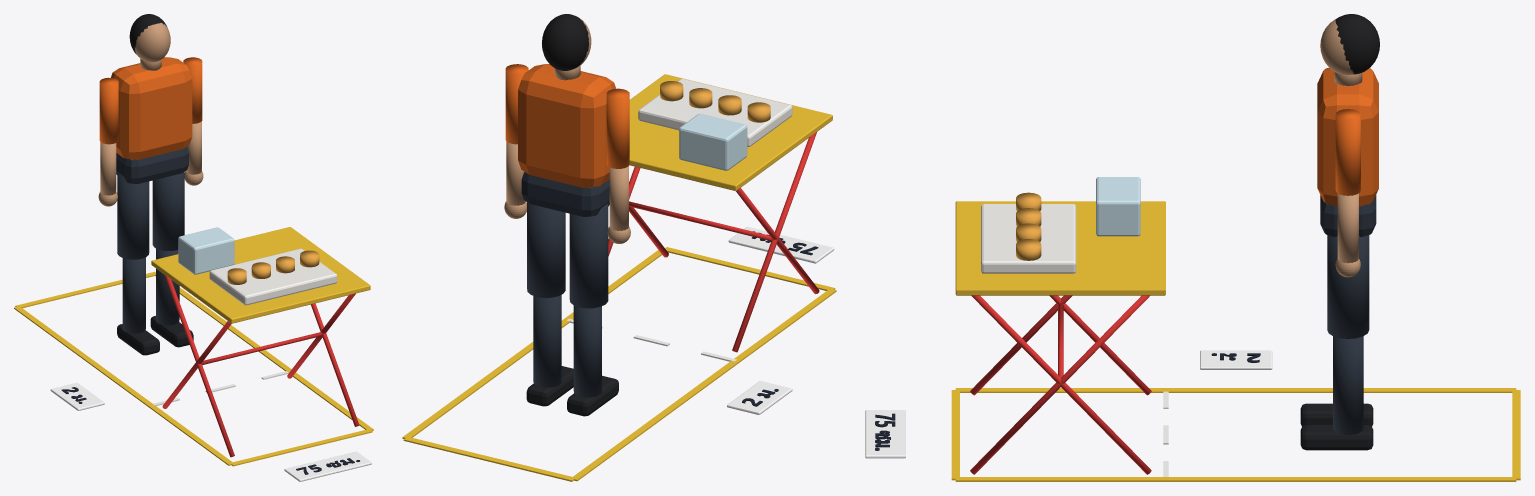
File: lot-food-1.glb
The picture shows the model from 3 angles, left to right: view 1: azimuth 30°, elevation 25°; view 2: azimuth 150°, elevation 25°; view 3: azimuth 270°, elevation 25°; orthographic projection. The views are drawn at different scales.
Parts seen in each view (by area): view 1: Cube.013, Cube, Cube.001, Cylinder.010, Cylinder.014, Cube.002, Cylinder.009, Cube.012, Cube.004, Cylinder.011, Cube.005, Cylinder.013 (+16 smaller); view 2: Cube.013, Cube, Cylinder.010, Cube.001, Cylinder.014, Cube.002, Cylinder.013, Cylinder.009, Cube.012, Cube.004, Sphere.003, Cylinder.011 (+13 smaller); view 3: Cube, Cube.013, Cube.001, Cylinder.014, Cylinder.013, Cube.005, Cube.002, Cube.004, Cylinder.015, Sphere.003, Cube.014, Cylinder.003 (+11 smaller).
Part boxes in pixels (x1,y1,x2,y2): Cube.013: (111,57,192,159); Cube: (151,227,370,323); Cube.001: (209,248,337,305); Cylinder.010: (117,173,149,259); Cylinder.014: (152,172,184,251); Cube.002: (178,227,234,274); Cylinder.009: (122,257,145,333); Cube.012: (116,146,188,183); Cube.004: (14,306,232,465); Cylinder.011: (99,77,118,144); Cube.005: (154,273,373,430); Cylinder.013: (156,248,179,325); Cube.013: (518,64,616,187); Cube: (629,74,832,190); Cylinder.010: (569,203,608,308); Cube.001: (638,78,792,146); Cylinder.014: (527,202,565,297); Cube.002: (679,113,747,170); Cylinder.013: (533,295,561,387); Cylinder.009: (573,305,601,397); Cube.012: (521,172,609,216); Cube.004: (573,288,836,481); Sphere.003: (542,14,588,70); Cylinder.011: (606,88,629,168); Cube: (955,201,1165,295); Cube.013: (1317,67,1378,206); Cube.001: (981,204,1076,273); Cylinder.014: (1327,235,1369,338); Cylinder.013: (1333,336,1363,434); Cube.005: (955,477,1516,481); Cube.002: (1096,177,1140,236); Cube.004: (955,388,1516,392); Cylinder.015: (1335,109,1360,195); Sphere.003: (1335,14,1379,74); Cube.014: (865,410,905,458); Cylinder.003: (971,295,1151,474).
Bounding box in the file's own units: 1.09 × 1.65 × 2.34.
